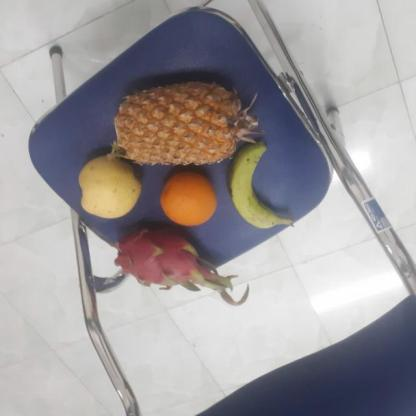banana: (228, 143, 288, 229)
orange: (160, 172, 218, 228)
pear: (76, 155, 144, 220)
pineapple: (116, 79, 249, 169)
pitaya: (116, 224, 211, 288)
